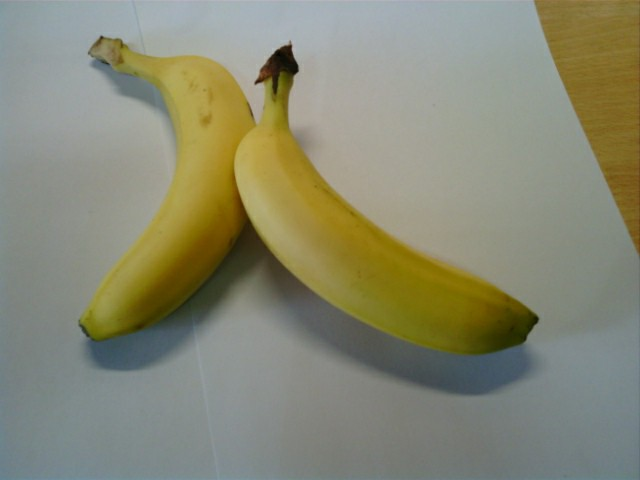fresh_banana: (234, 101, 537, 356), (71, 42, 255, 341)
